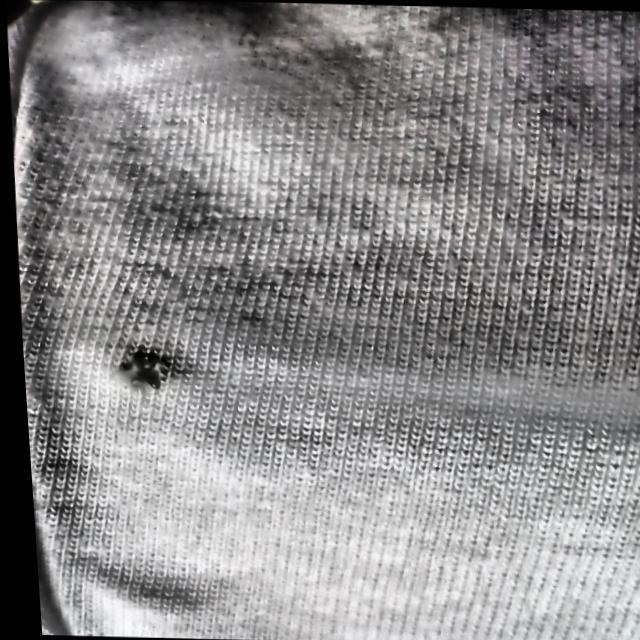Hole: (98, 343, 176, 396)
